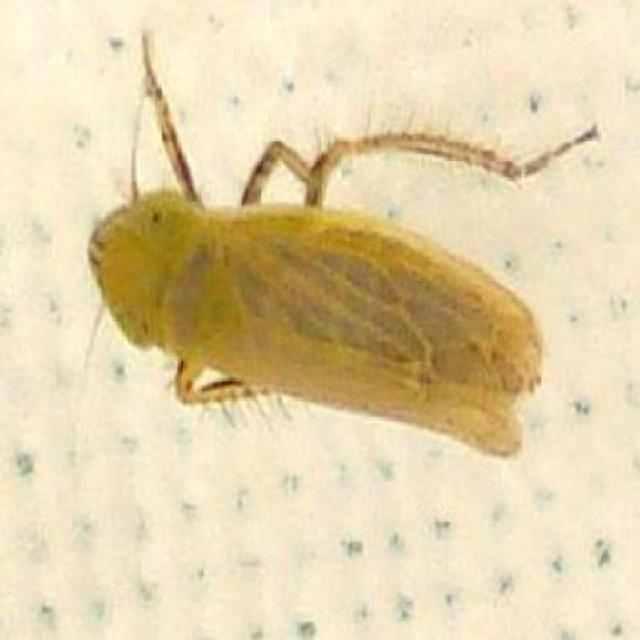green-leafhopper: (86, 31, 552, 463)
